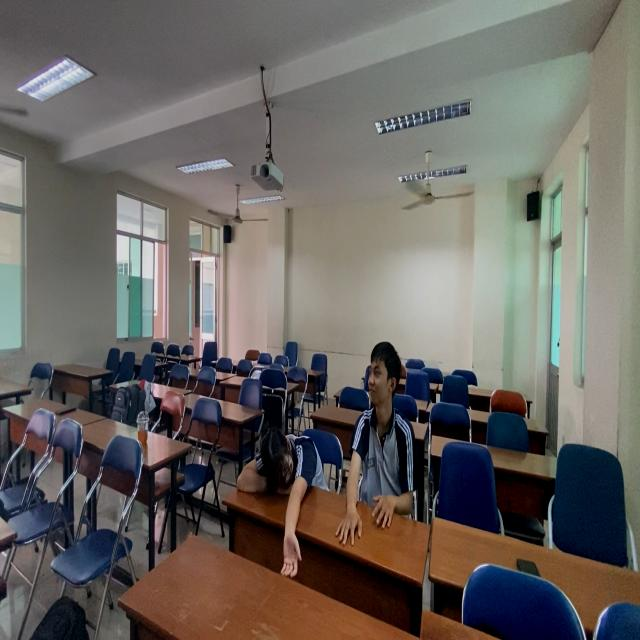sleep: (236, 411, 325, 569)
